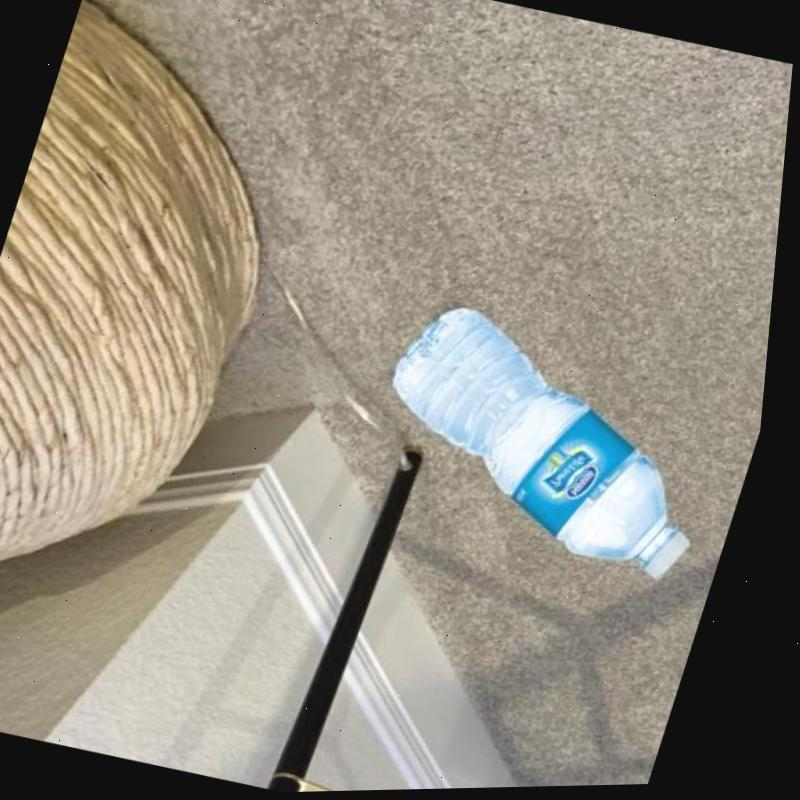botella: (353, 294, 758, 592)
